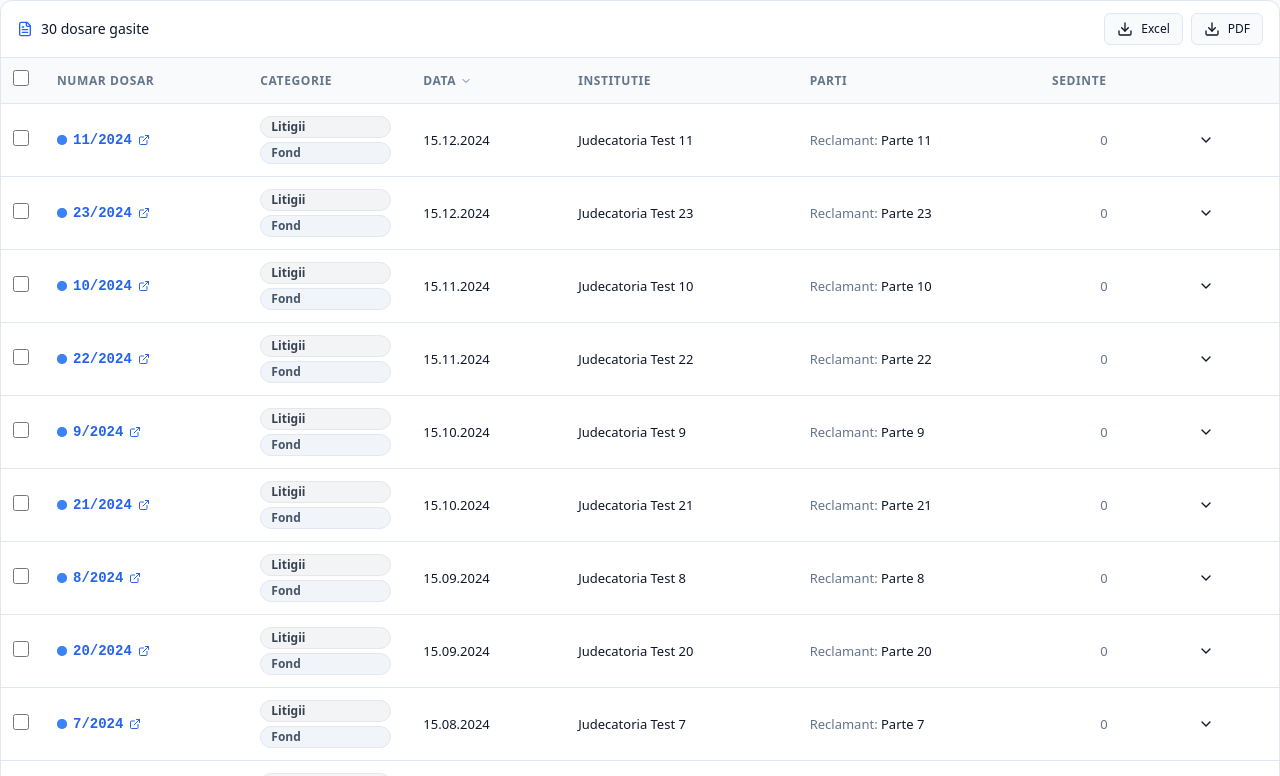
Scenario: DosareTable — characterization (render + state) › select-all-pe-pagina selecteaza toate randurile din pagina curenta
Click the checkbox named "Selecteaza/deselecteaza pagina curenta": (21, 78) [13,70,29,86]
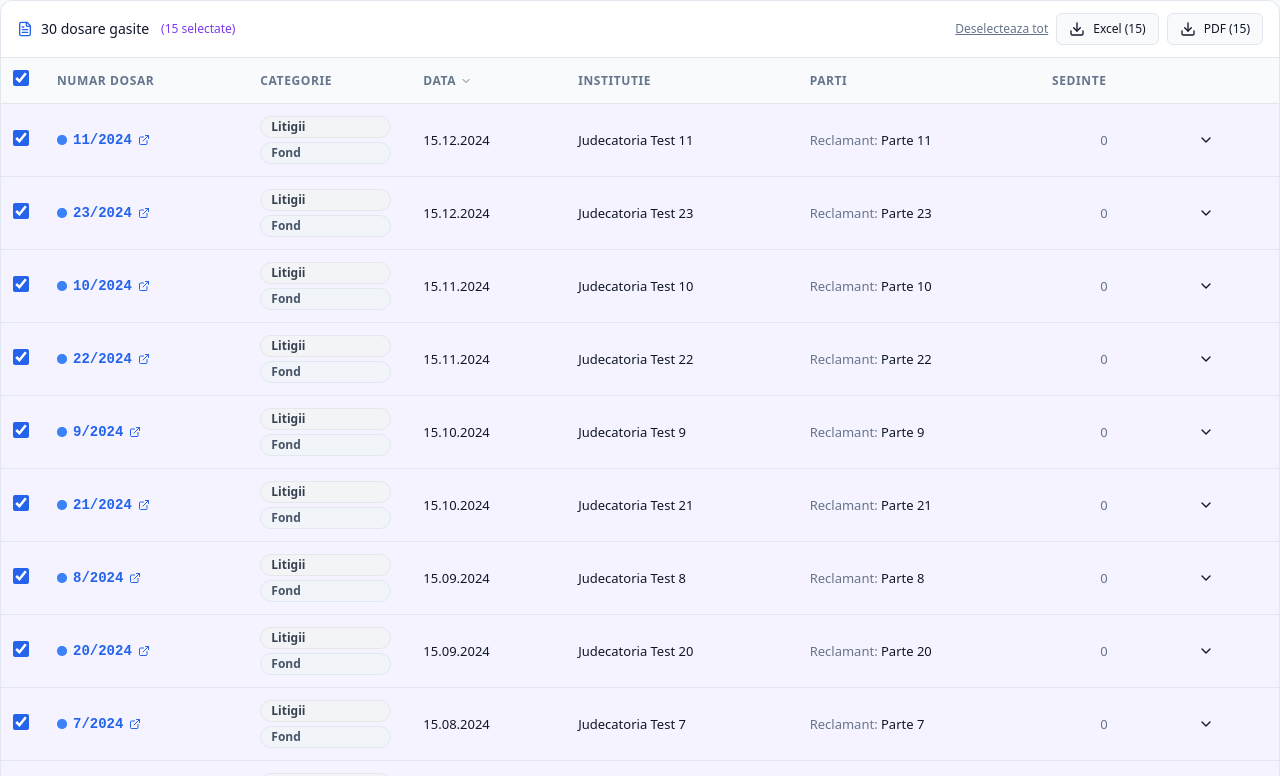
Now the text "(15 selectate)" is shown, box [161,21,236,37]
